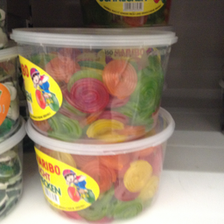candy: (10, 27, 178, 144), (25, 127, 175, 224)
